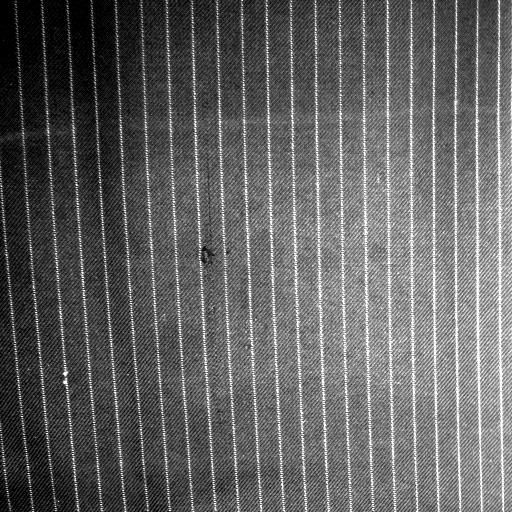fabric_hole: (194, 237, 222, 279)
